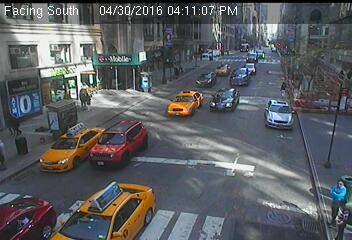neg: (246, 50, 271, 84), (90, 132, 112, 161), (213, 61, 231, 85), (159, 73, 176, 96)
pos: (321, 176, 351, 223), (75, 83, 93, 107)
